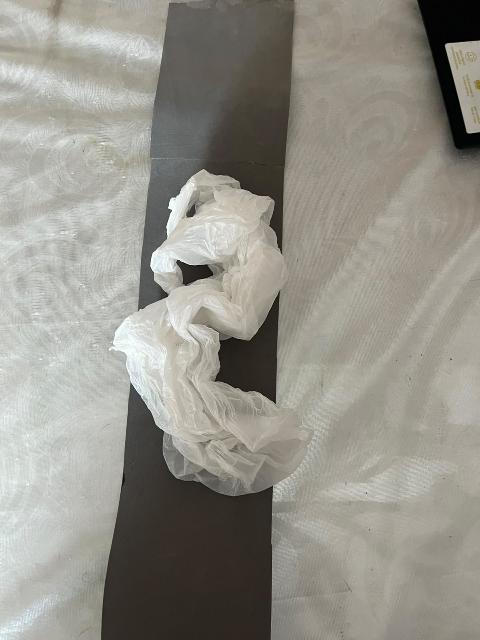LDPE: (101, 155, 328, 513)
